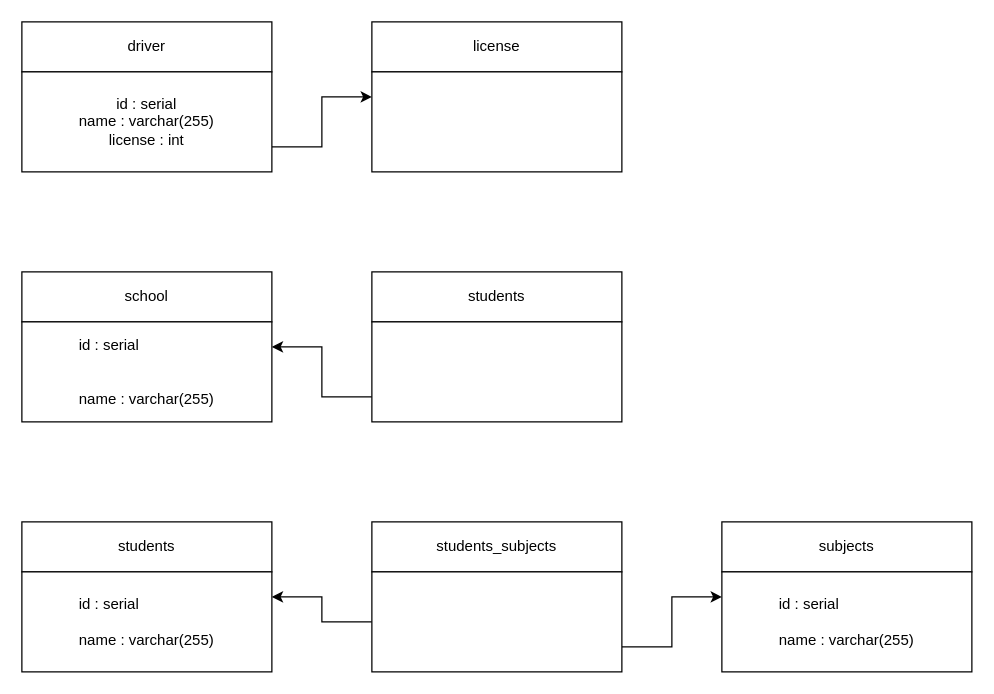
This 994x694 diagram has some shape labels left out. The shapes that lost their labels are listed below. From the top down, each one's centre as x and y in pixels, then its label:
point 496,121: id : serial seria : int number : int
point 496,371: id : serial name : varchar(255) school_id : int
point 496,621: id : serial student_id : int subject_id : int
